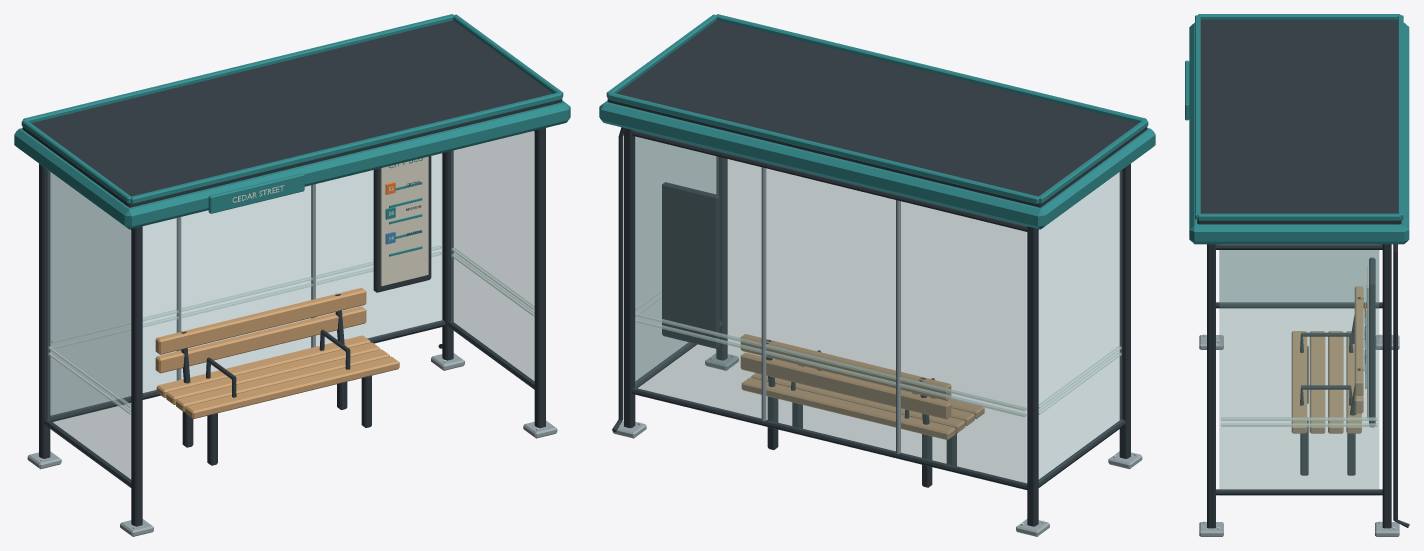
Rendered from Bus_Shelter_Detailed.glb.
3 renders of one model, left to right at view 1: azimuth 30°, elevation 25°; view 2: azimuth 150°, elevation 25°; view 3: azimuth 270°, elevation 25°, orthographic. The views are drawn at different scales.
Parts seen in each view (by area): view 1: Bus_Shelter_Detailed; view 2: Bus_Shelter_Detailed; view 3: Bus_Shelter_Detailed.
Boxes of the visible parts, x1=… form: Bus_Shelter_Detailed: x1=14, y1=14, x2=570, y2=536; Bus_Shelter_Detailed: x1=599, y1=14, x2=1155, y2=536; Bus_Shelter_Detailed: x1=1185, y1=14, x2=1409, y2=536.
Bounding box in the file's own units: 3.76 × 2.75 × 1.73.
